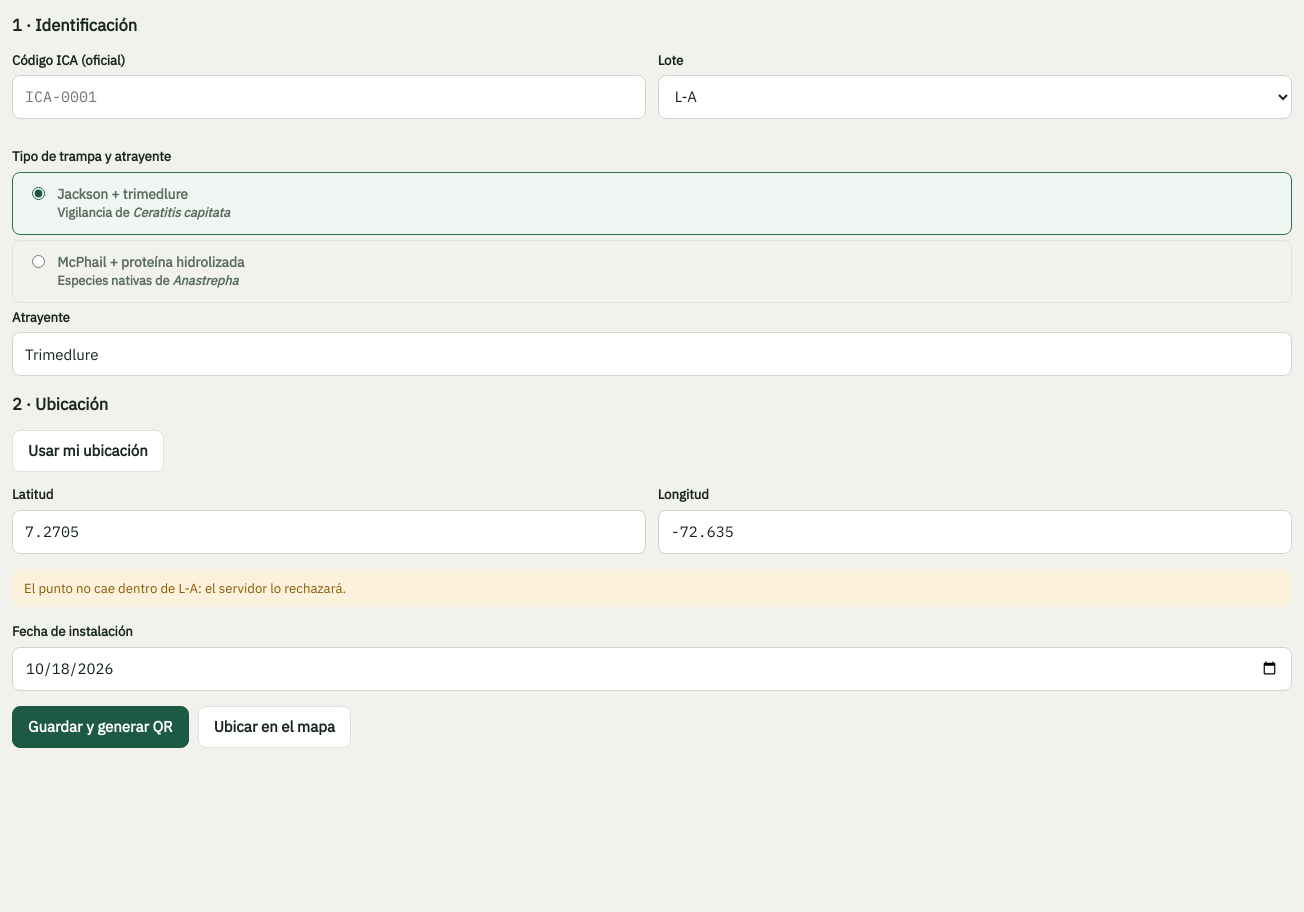
it: FormularioTrampa › muestra el mensaje del servidor si el punto queda fuera del lote
Type "ICA-003" into the field labelled "Código ICA (oficial)" at point(329, 97), box [12,75,646,119]
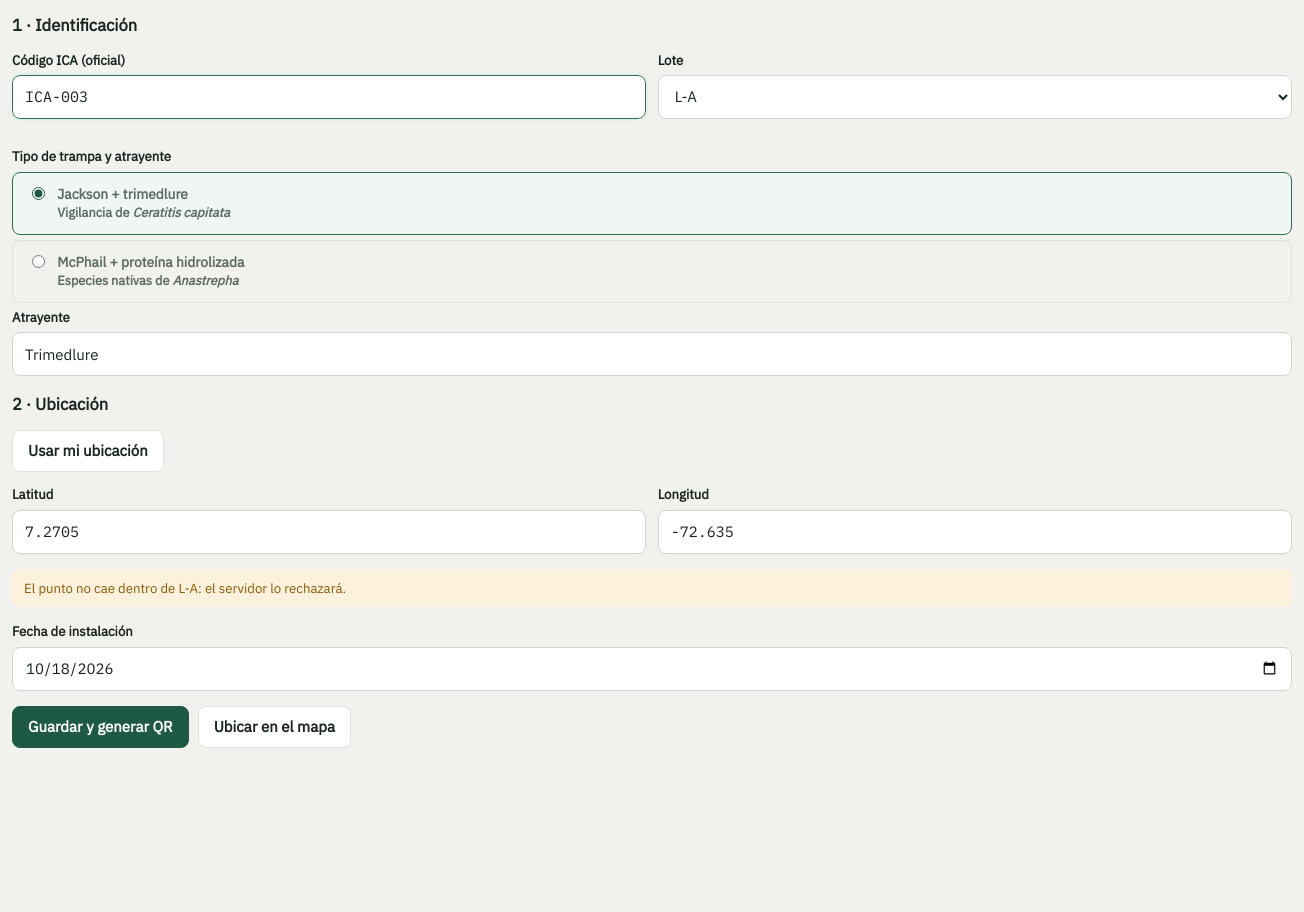
Click the button "Guardar y generar QR" at point(100, 727), box [12,706,189,748]
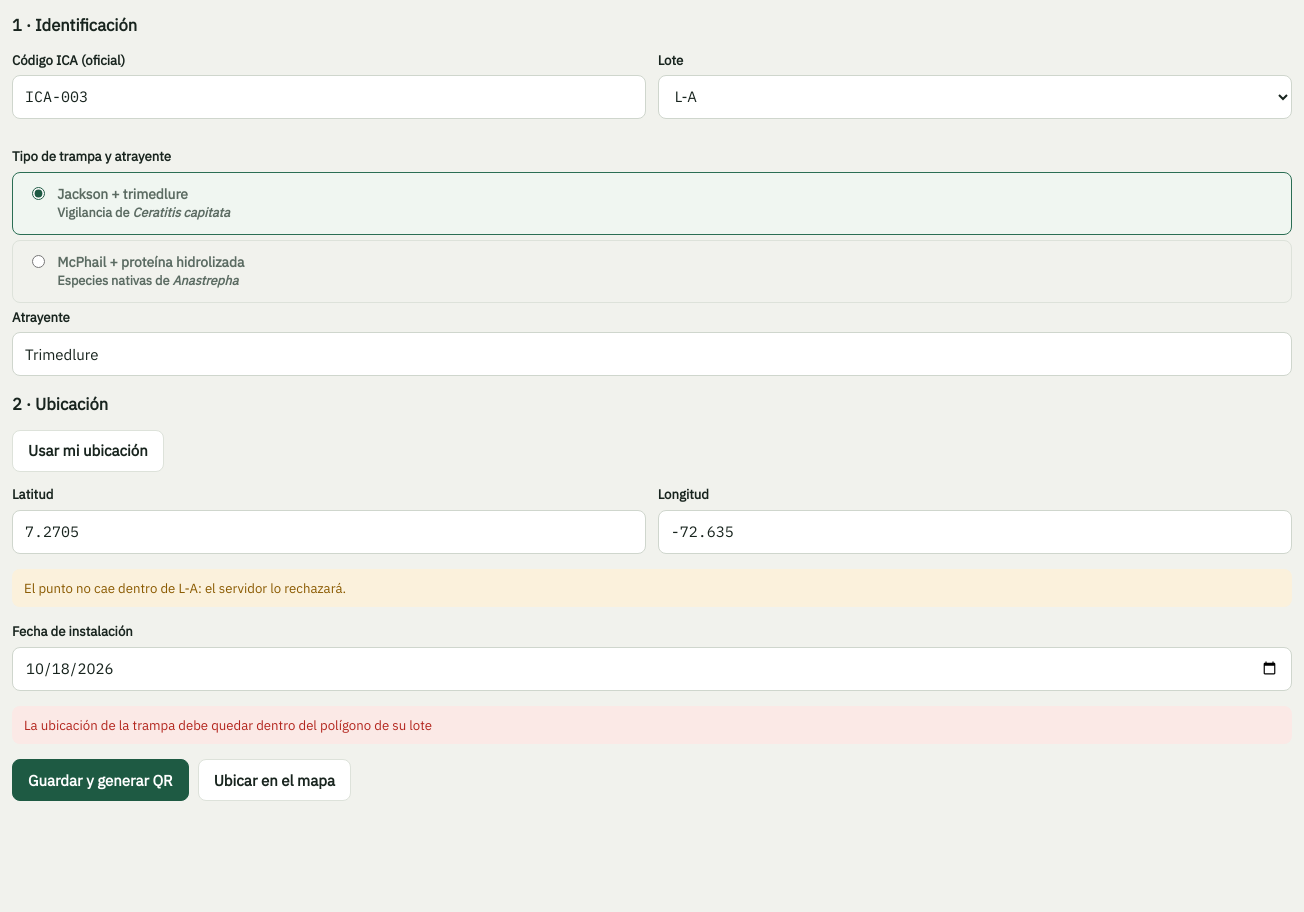
Expected: the message "La ubicación de la trampa debe quedar dentro del polígono de su lote" is shown, [12,706,1292,744]
